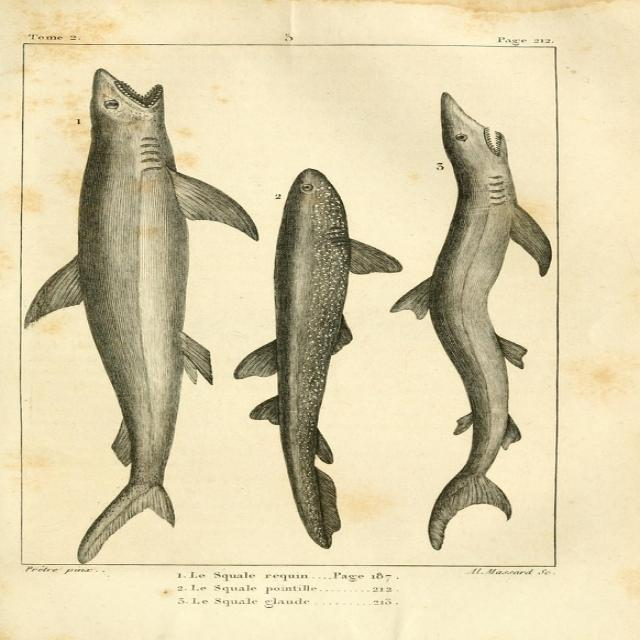Shark: (24, 68, 269, 566), (388, 87, 561, 552)
